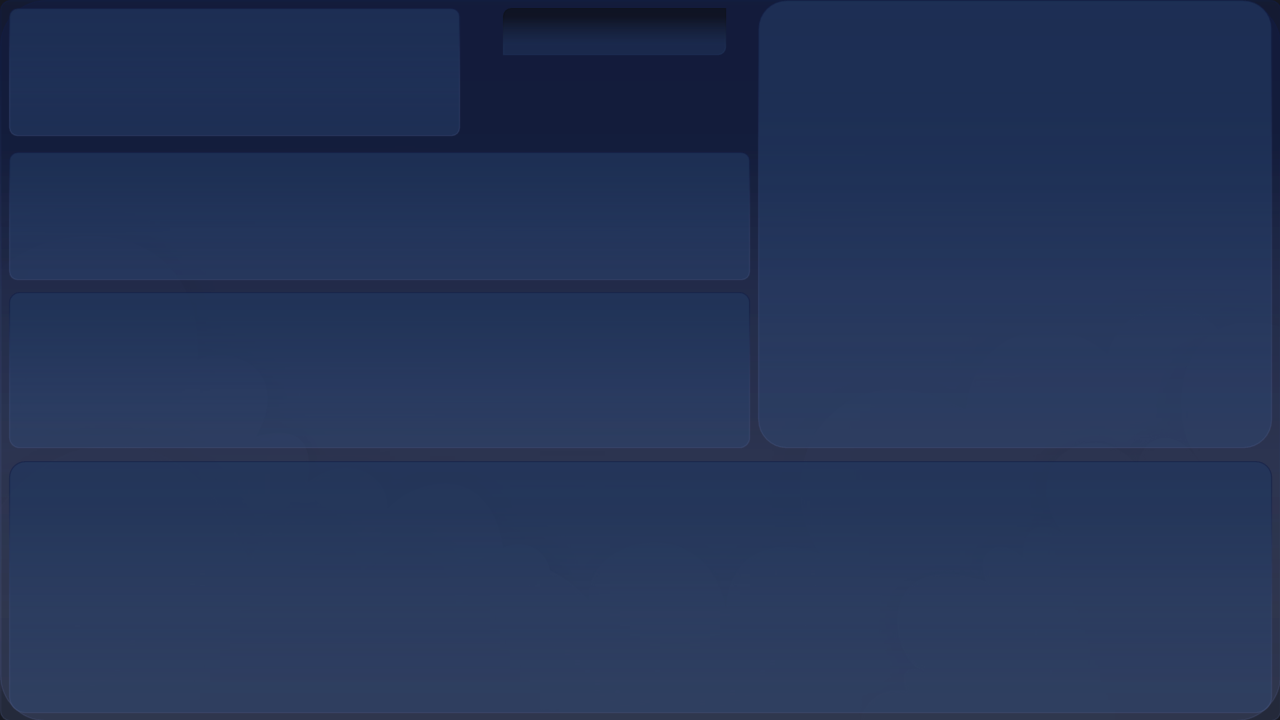

Layout of this report page (visuals, bound fields, positions):
{"tool":"powerbi","page":{"name":"Page 1","canvas":[1920,1080],"ordinal":0},"visuals":[{"type":"scatterChart","title":"Relation between speed (mph) and Gforce","fields":{"X":["coaster_db2.Gforce"],"Y":["coaster_db2.speed_mph"]},"box":[624.4,447.9,496,214.5],"z":0},{"type":"slicer","title":"Location","fields":{"Values":["coaster_db2.Location"]},"box":[1152,16,736,80],"z":1000},{"type":"funnel","title":"Top 10 Fastest Roller Coasters","fields":{"Category":["coaster_db2.Coaster_Name"],"Y":["Max(coaster_db2.speed_mph)"]},"box":[16,703.2,656.5,369.1],"z":2000},{"type":"lineChart","title":"Number of Coasters over the years","fields":{"Category":["coaster_db2.Year_Introduced"],"Y":["CountNonNull(coaster_db2.Year_Introduced)"]},"box":[16,447.9,608.4,214.5],"z":3000},{"type":"funnel","title":"Locations with the fastest coasters","fields":{"Category":["coaster_db2.Location"],"Y":["Avg(coaster_db2.speed_mph)"]},"box":[1302.9,703.2,585,369.1],"z":4000},{"type":"map","fields":{"Y":["coaster_db2.latitude"],"X":["coaster_db2.longitude"]},"box":[1155.5,94.8,735.3,566.1],"z":5000},{"type":"donutChart","title":"Material Used","fields":{"Category":["coaster_db2.Type_Main"],"Y":["CountNonNull(coaster_db2.Type_Main)"]},"box":[624.4,230.5,496,191.1],"z":6000},{"type":"slicer","title":"Year","fields":{"Values":["coaster_db2.Year_Introduced"]},"box":[15.5,15.5,288.5,97],"z":7000},{"type":"slicer","title":"Height","fields":{"Values":["coaster_db2.Height_Restriction"]},"box":[512,112,176,80],"z":8000},{"type":"slicer","title":"Material","fields":{"Values":["coaster_db2.Type_Main"]},"box":[352,112,160,64],"z":9000},{"type":"textbox","box":[742.6,23.3,353.1,64.2],"z":10000},{"type":"slicer","title":"Gforce","fields":{"Values":["coaster_db2.Gforce"]},"box":[304,15.5,256.2,97],"z":11000},{"type":"slicer","fields":{"Values":["coaster_db2.Manufacturer"]},"box":[16,112,320,80],"z":12000},{"type":"funnel","title":"Top 10 Manufacturers","fields":{"Category":["coaster_db2.Manufacturer"],"Y":["CountNonNull(coaster_db2.Coaster_Name)"]},"box":[672.8,703.8,630.1,368.7],"z":13000},{"type":"donutChart","title":"Roller Coasters Status","fields":{"Category":["coaster_db2.Status"],"Y":["CountNonNull(coaster_db2.Status)"]},"box":[16,229.1,624.4,192.6],"z":14000}]}

Visuals, with their boxes in screenshot pixels (x1, y1, x2, y2), scaled from the page's 1920x1080 canvas onto the 1280x720 screenshot:
"Relation between speed (mph) and Gforce" scatterChart: box(416, 299, 747, 442)
"Location" slicer: box(768, 11, 1259, 64)
"Top 10 Fastest Roller Coasters" funnel: box(11, 469, 448, 715)
"Number of Coasters over the years" lineChart: box(11, 299, 416, 442)
"Locations with the fastest coasters" funnel: box(869, 469, 1259, 715)
map - coaster_db2.latitude x coaster_db2.longitude: box(770, 63, 1261, 441)
"Material Used" donutChart: box(416, 154, 747, 281)
"Year" slicer: box(10, 10, 203, 75)
"Height" slicer: box(341, 75, 459, 128)
"Material" slicer: box(235, 75, 341, 117)
textbox: box(495, 16, 730, 58)
"Gforce" slicer: box(203, 10, 373, 75)
slicer - coaster_db2.Manufacturer: box(11, 75, 224, 128)
"Top 10 Manufacturers" funnel: box(449, 469, 869, 715)
"Roller Coasters Status" donutChart: box(11, 153, 427, 281)
